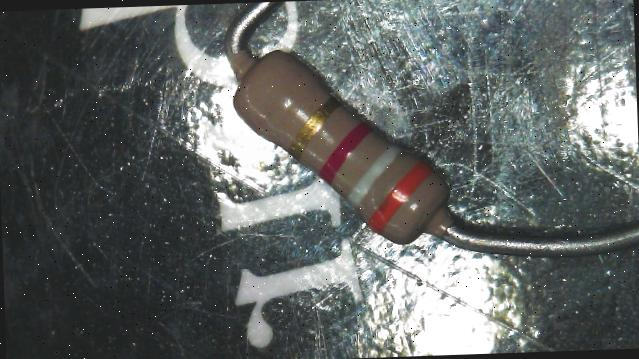gold: (289, 98, 340, 150)
orange: (368, 163, 436, 232)
red: (318, 122, 373, 182)
resistor: (195, 25, 485, 269)
white: (346, 150, 402, 205)
